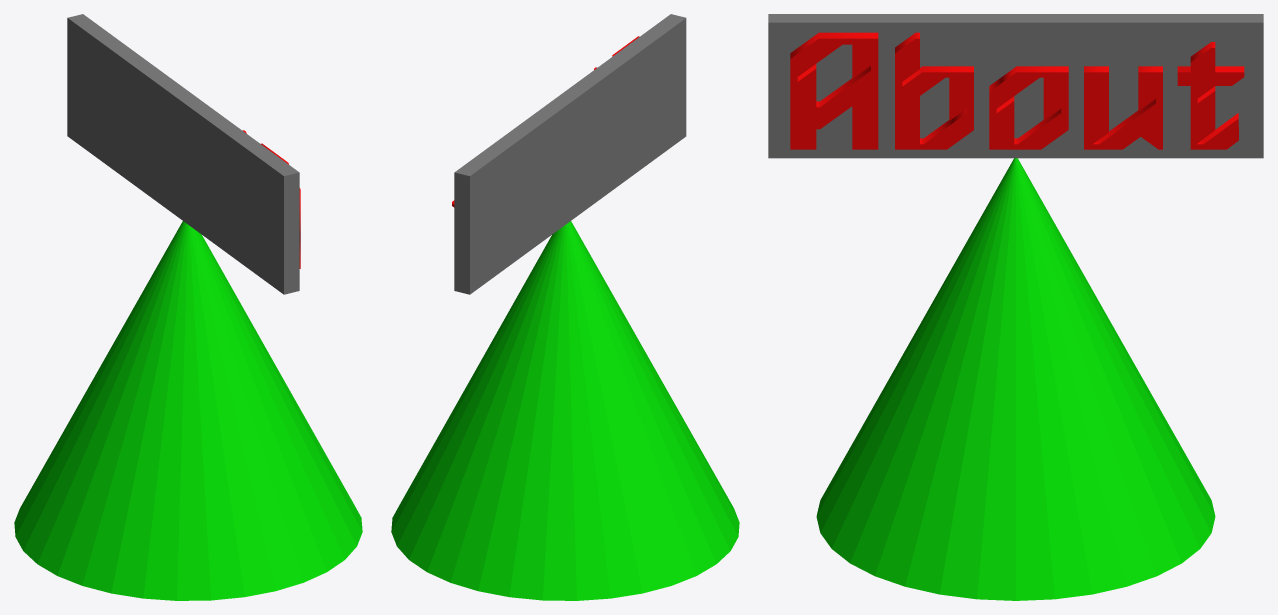
3 views of the same model, side by side, from view 1: azimuth 30°, elevation 25°; view 2: azimuth 150°, elevation 25°; view 3: azimuth 270°, elevation 25° (orthographic). The views are drawn at different scales.
Visible parts, largest first — view 1: Cube; view 2: Cube; view 3: Cube.
Part boxes in pixels (x1,y1,x2,y2): Cube: (14, 14, 362, 600); Cube: (391, 14, 739, 600); Cube: (768, 14, 1263, 600).
Size of the model in its own units: 2 by 2.74 by 2.48.
